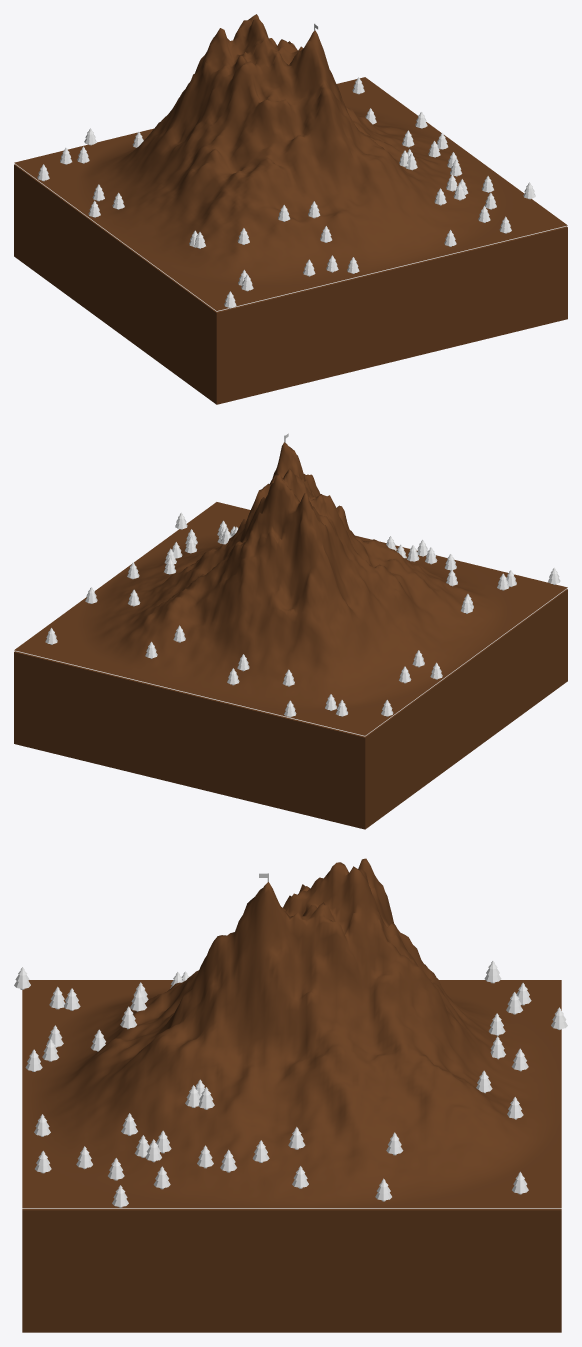
Rendered from mountain.fbx.
3 views of the same model, one above another, from view 1: azimuth 30°, elevation 25°; view 2: azimuth 150°, elevation 25°; view 3: azimuth 270°, elevation 25° (orthographic). The views are drawn at different scales.
Parts seen in each view (by area): view 1: Landscape, Cube, Landscape.001; view 2: Landscape, Cube, Landscape.001; view 3: Landscape, Cube, Landscape.001.
Boxes of the visible parts, x1,y1,x2,y2 form: Landscape: (14, 14, 567, 310); Cube: (14, 164, 567, 404); Landscape.001: (14, 77, 567, 311); Landscape: (14, 442, 567, 735); Cube: (14, 589, 567, 829); Landscape.001: (14, 512, 567, 736); Landscape: (22, 858, 561, 1207); Cube: (22, 1208, 561, 1332); Landscape.001: (14, 961, 567, 1208).
Size of the model in its own units: 203 by 145 by 206.
